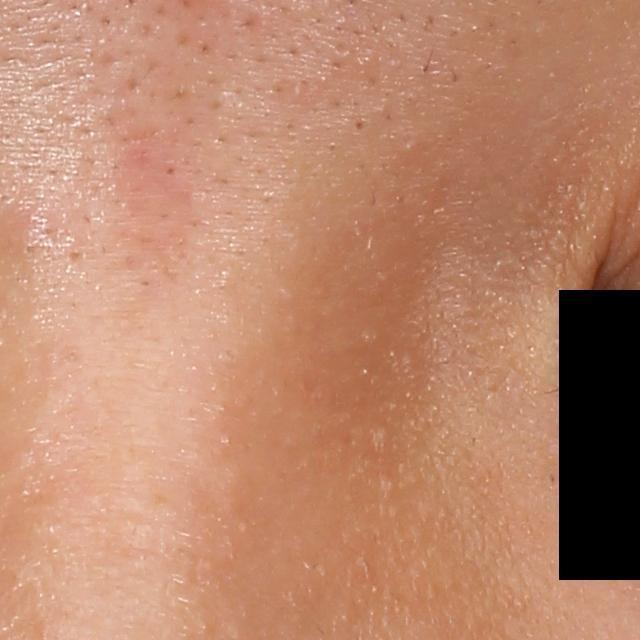comedo: (349, 113, 371, 139)
